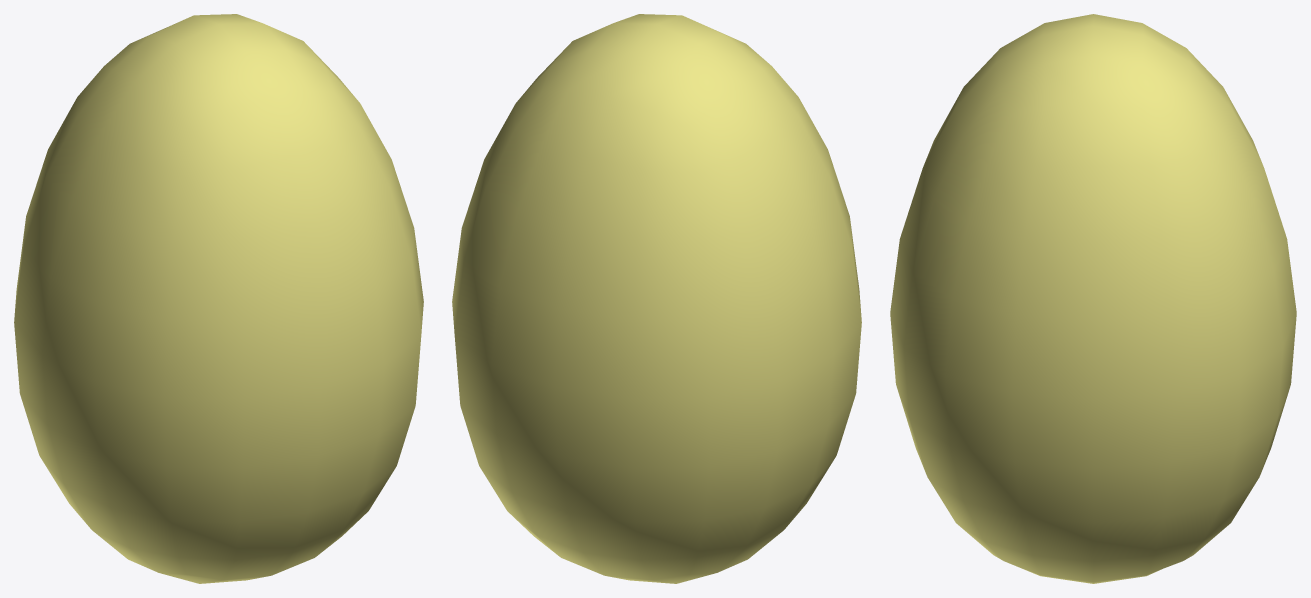
File: kaz_yumurtasi.fbx
3 views of the same model, side by side, from view 1: azimuth 30°, elevation 25°; view 2: azimuth 150°, elevation 25°; view 3: azimuth 270°, elevation 25° (orthographic).
Parts seen in each view (by area): view 1: tavuk_yumurtasi.001; view 2: tavuk_yumurtasi.001; view 3: tavuk_yumurtasi.001.
Boxes of the visible parts, x1,y1,x2,y2 form: tavuk_yumurtasi.001: (14,14,423,583); tavuk_yumurtasi.001: (452,14,861,583); tavuk_yumurtasi.001: (890,14,1296,583).
Size of the model in its own units: 46.96 by 69.13 by 46.96.
